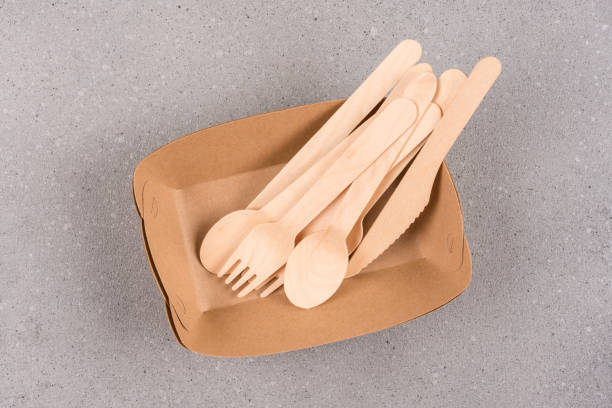Wooden Utensils: (194, 37, 490, 292)
